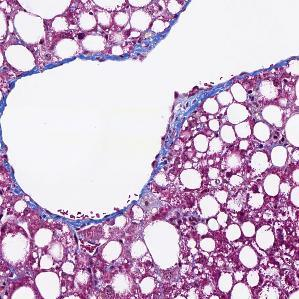fibrosis: (169, 92, 211, 139)
